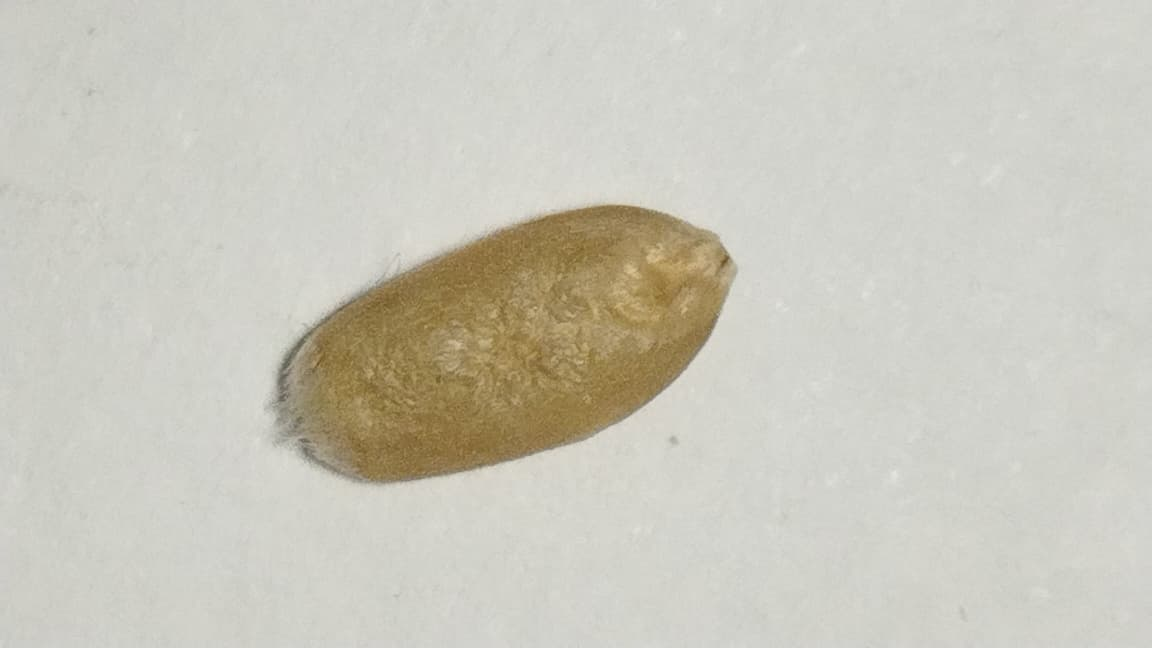healthy: (283, 204, 735, 480)
